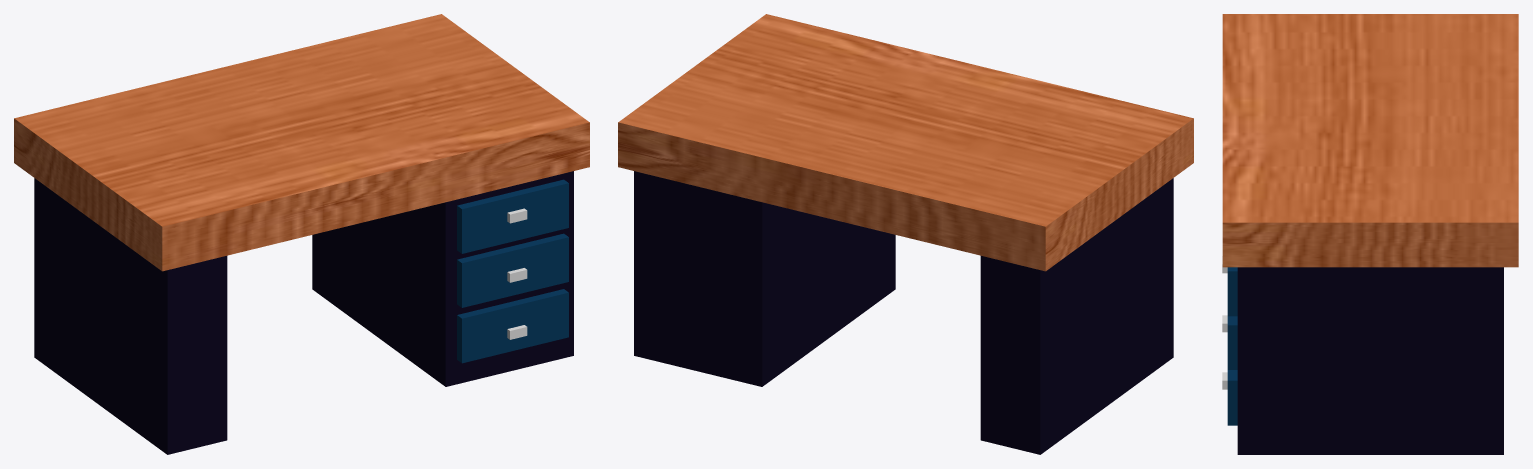
The model's file is desk.fbx.
The picture shows the model from 3 angles, left to right: view 1: azimuth 30°, elevation 25°; view 2: azimuth 150°, elevation 25°; view 3: azimuth 270°, elevation 25°; orthographic projection.
Parts seen in each view (by area): view 1: Cube, Cube.001, Cube.002, Cube.005, Cube.004, Cube.003; view 2: Cube, Cube.002, Cube.001; view 3: Cube, Cube.002, Cube.003, Cube.004, Cube.005.
Boxes of the visible parts, left/top/right/bottom form: Cube: left=14, top=14, right=589, bottom=271; Cube.001: left=34, top=178, right=227, bottom=454; Cube.002: left=312, top=171, right=573, bottom=386; Cube.005: left=457, top=179, right=568, bottom=253; Cube.004: left=457, top=233, right=568, bottom=307; Cube.003: left=457, top=289, right=568, bottom=363; Cube: left=618, top=14, right=1193, bottom=271; Cube.002: left=634, top=171, right=895, bottom=386; Cube.001: left=980, top=178, right=1173, bottom=454; Cube: left=1222, top=14, right=1518, bottom=267; Cube.002: left=1237, top=267, right=1503, bottom=454; Cube.003: left=1227, top=370, right=1237, bottom=425; Cube.004: left=1227, top=316, right=1237, bottom=369; Cube.005: left=1227, top=267, right=1237, bottom=316.
Bounding box in the file's own units: 1000 × 529 × 601.
Materials: 3 (1 with a texture image).
